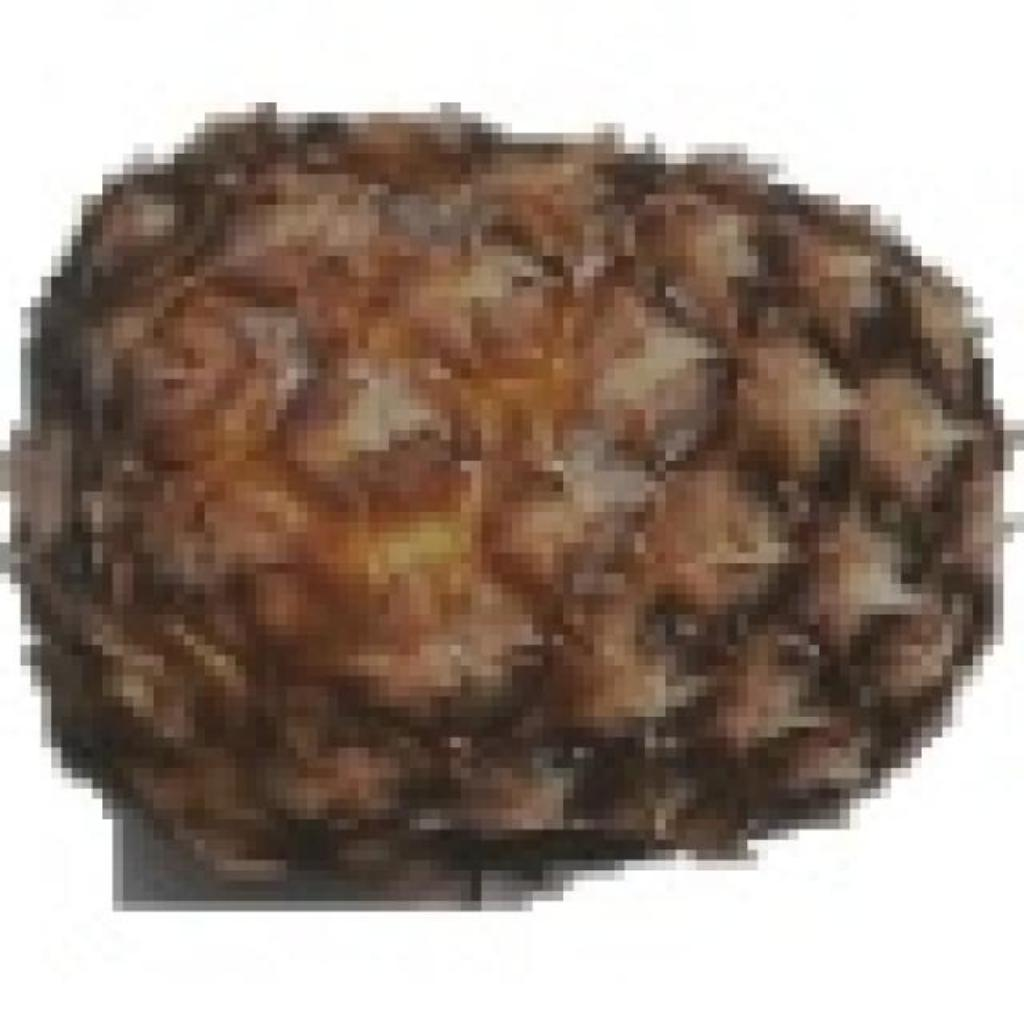pineapple: (41, 102, 1014, 860)
